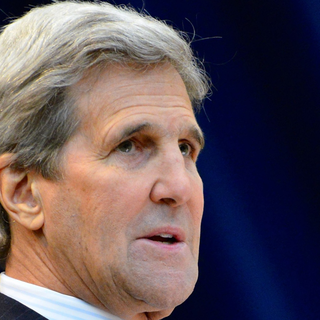eye: (106, 131, 147, 159), (173, 135, 200, 162)
